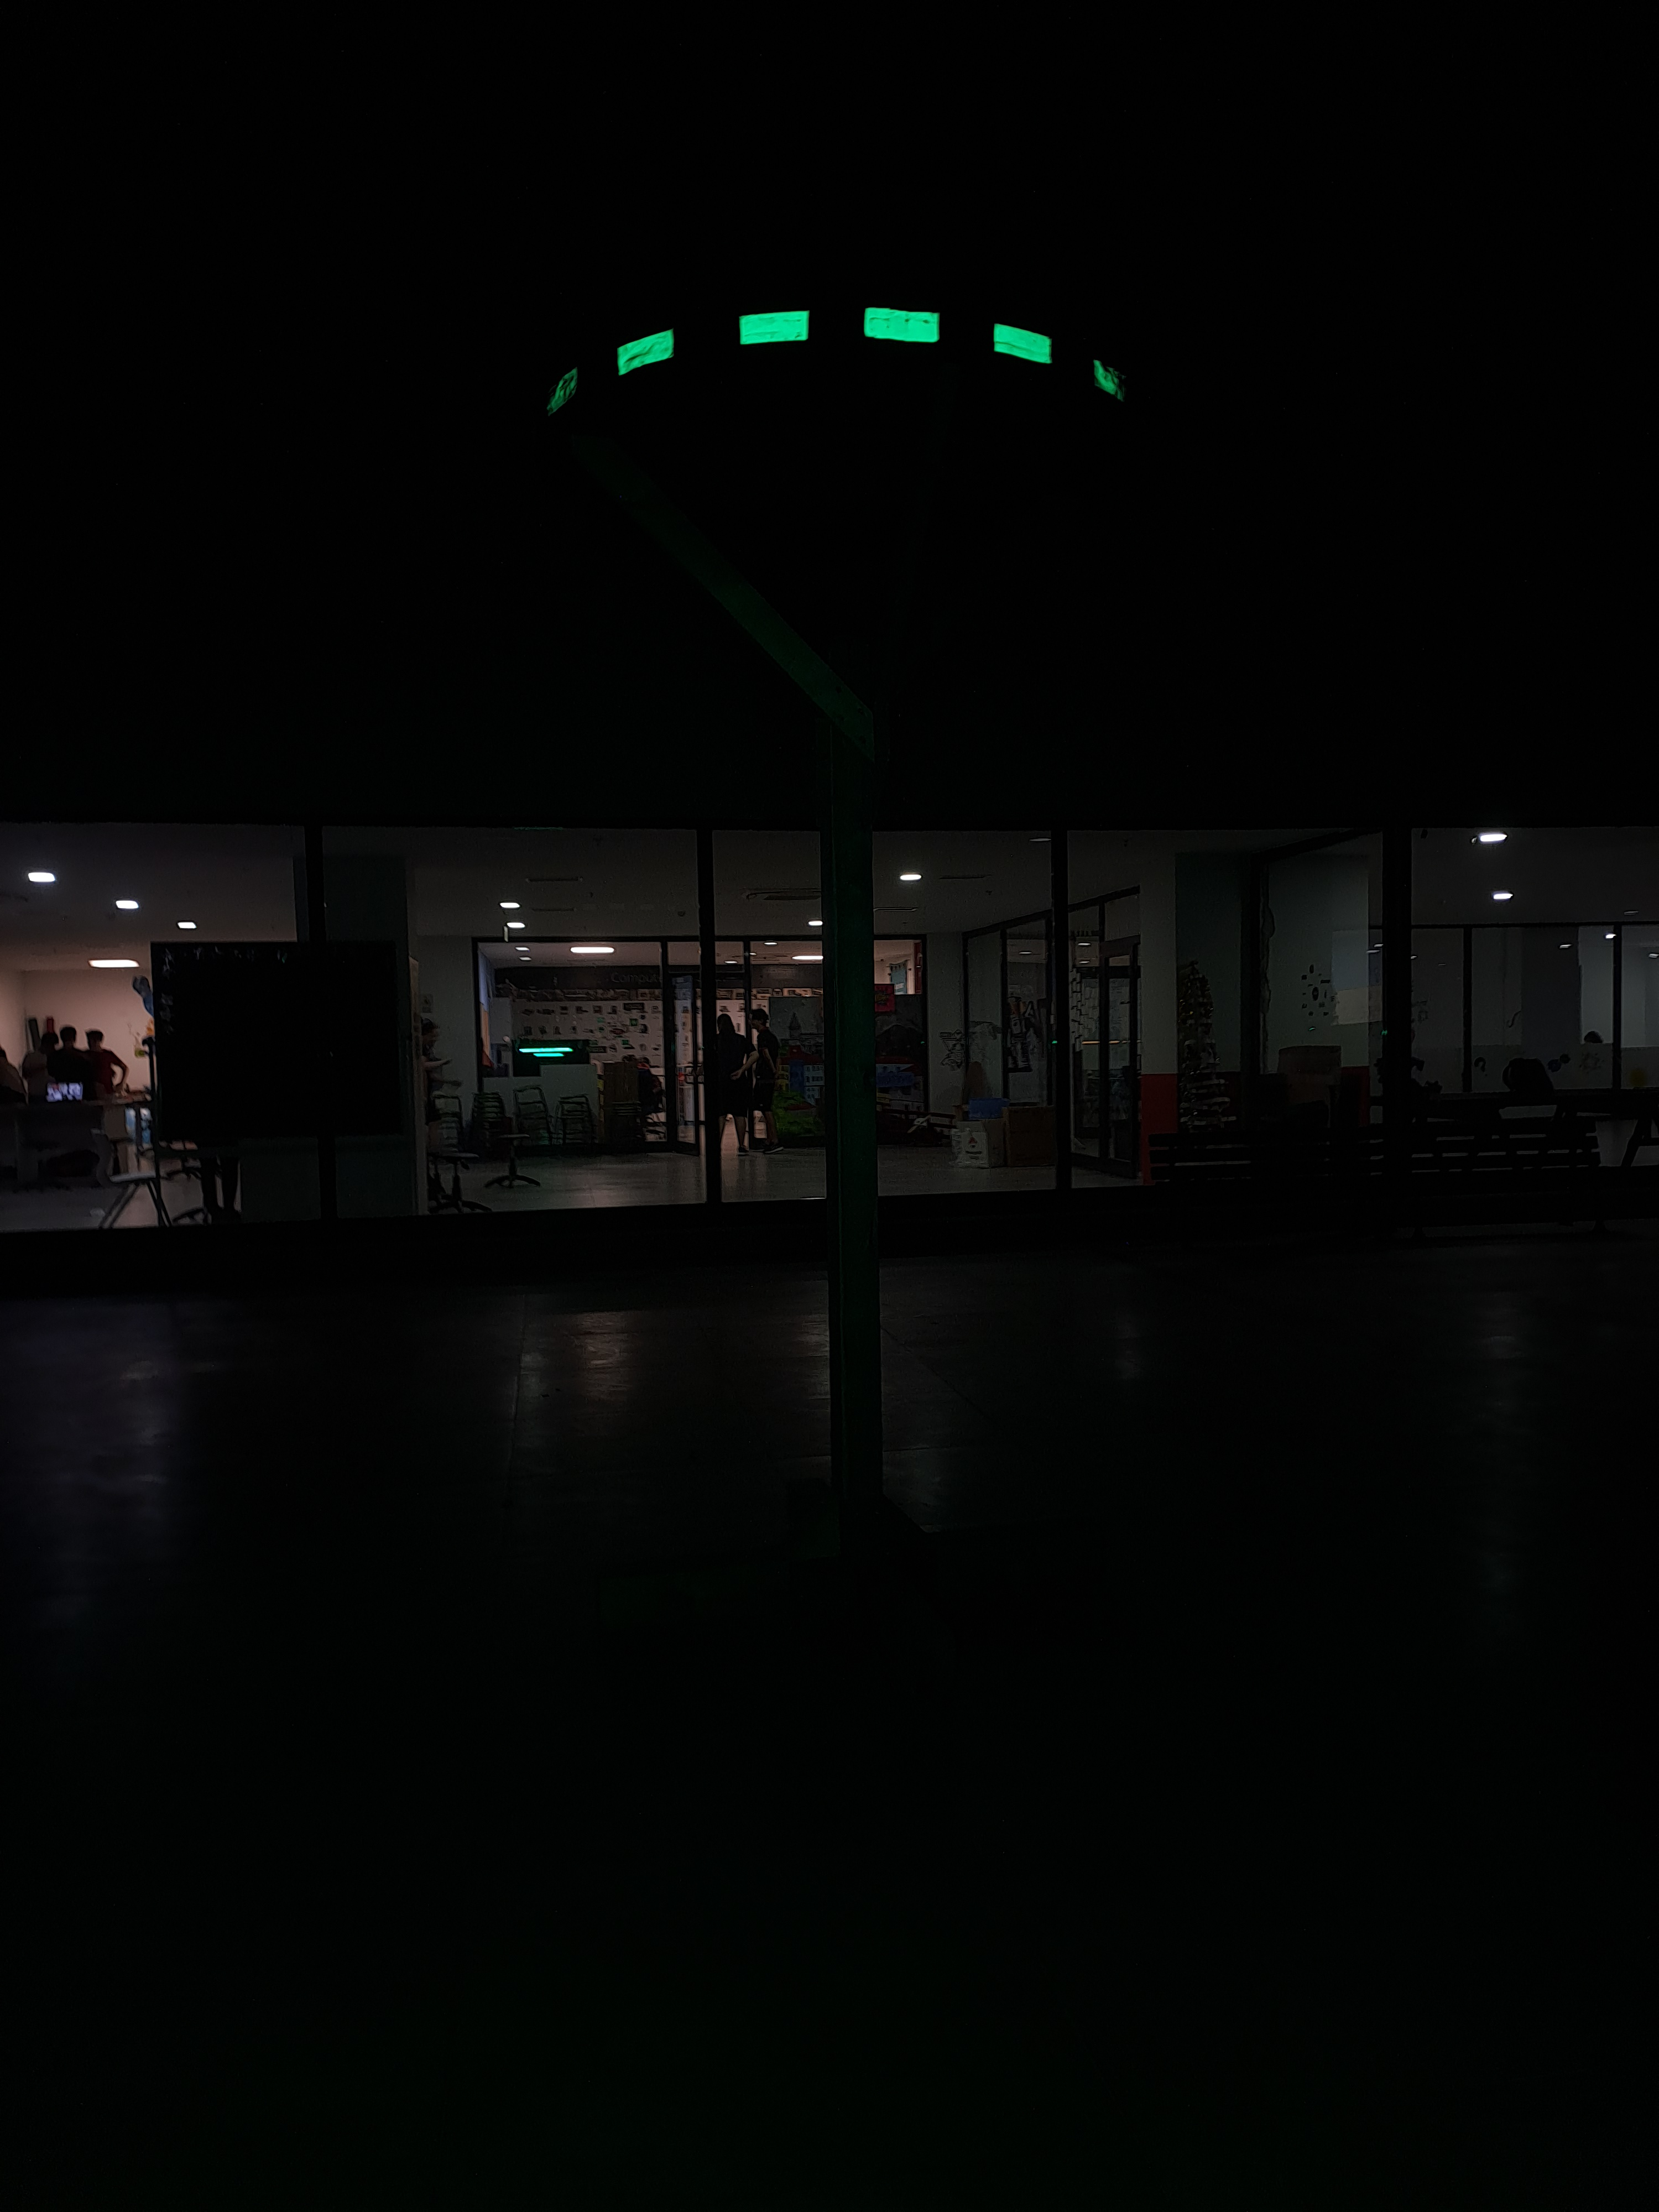hoop: (547, 305, 1126, 416)
